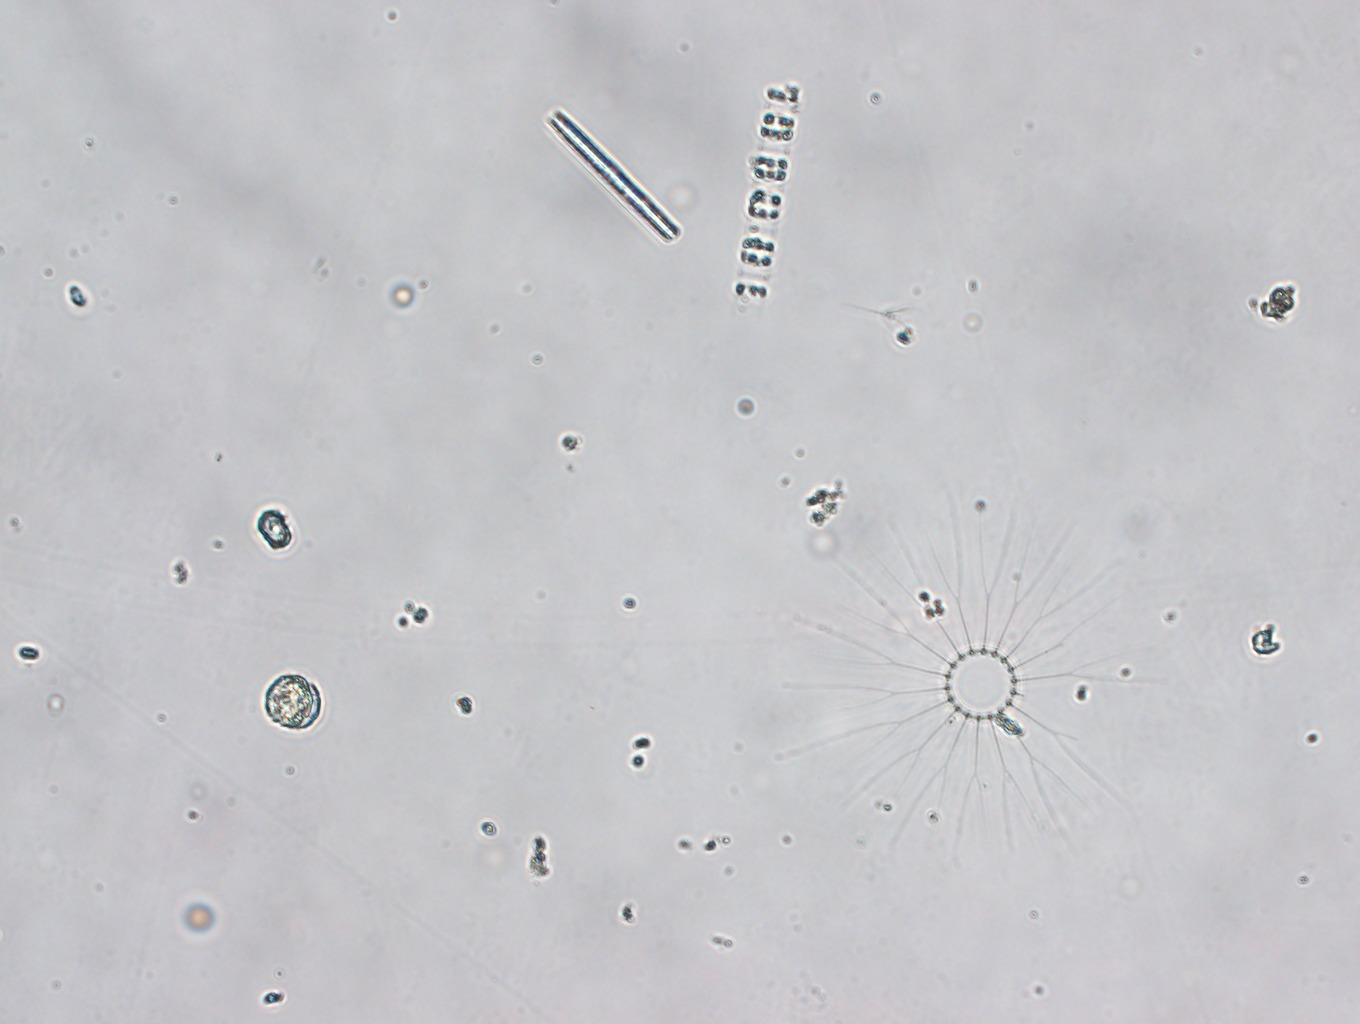bacteriastrum: (796, 490, 1146, 861)
skeletonema: (733, 80, 801, 305)
